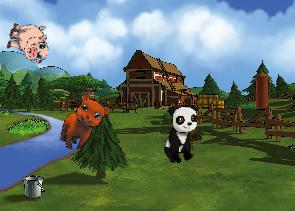bear: (56, 90, 113, 158)
panda: (163, 103, 199, 165)
pig: (3, 18, 53, 65)
